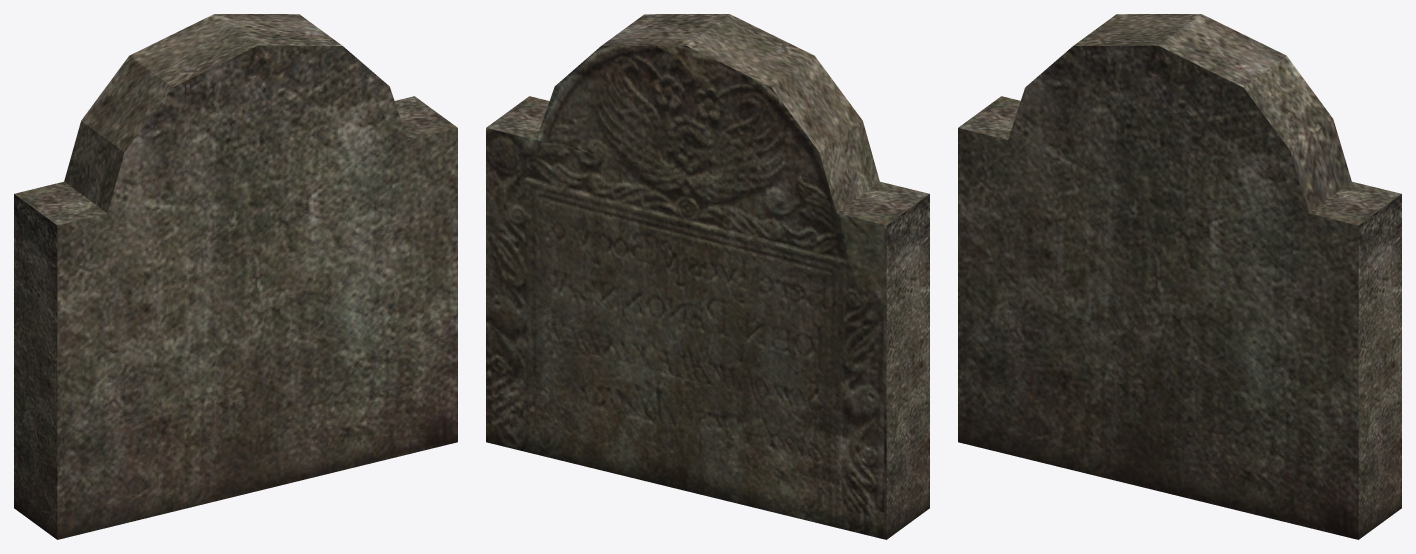
The model's file is tombstone_sm_03.fbx.
The picture shows the model from 3 angles, left to right: view 1: azimuth 30°, elevation 25°; view 2: azimuth 150°, elevation 25°; view 3: azimuth 330°, elevation 25°; orthographic projection.
Parts seen in each view (by area): view 1: mesh_1; view 2: mesh_0, mesh_1; view 3: mesh_1.
Part boxes in pixels (box(x1,y1,x2,y2)): mesh_1: box(14, 14, 457, 539); mesh_0: box(486, 45, 886, 539); mesh_1: box(486, 14, 929, 539); mesh_1: box(958, 14, 1401, 539).
Size of the model in its own units: 80 by 85 by 15.
Materials: 2 (2 with a texture image).
